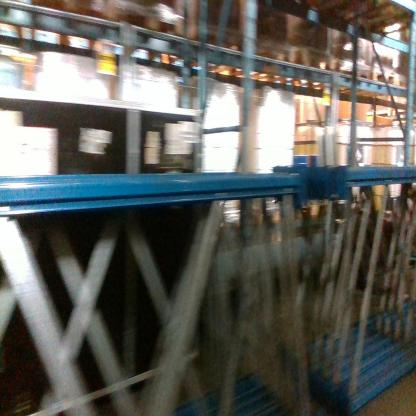pallet: (91, 2, 193, 65), (266, 45, 332, 86), (334, 60, 372, 83), (371, 66, 401, 90)
